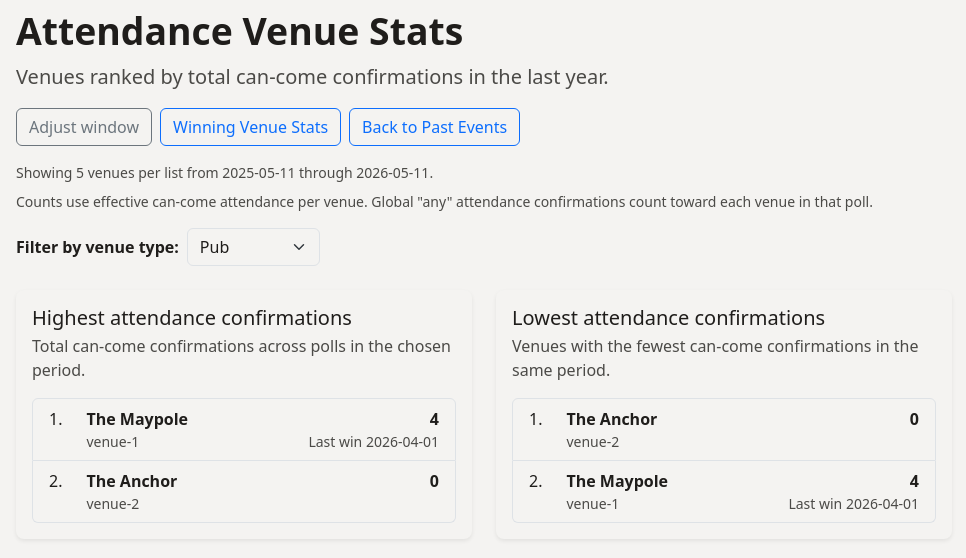
it: AttendanceVenueStatsPage › shows only restaurant venues when restaurant filter is selected
The width and height of the screenshot is (966, 558).
Select "Restaurant" in the dropdown labelled "Filter by venue type:" at (253, 247), box top-left (187, 228), bottom-right (320, 266)
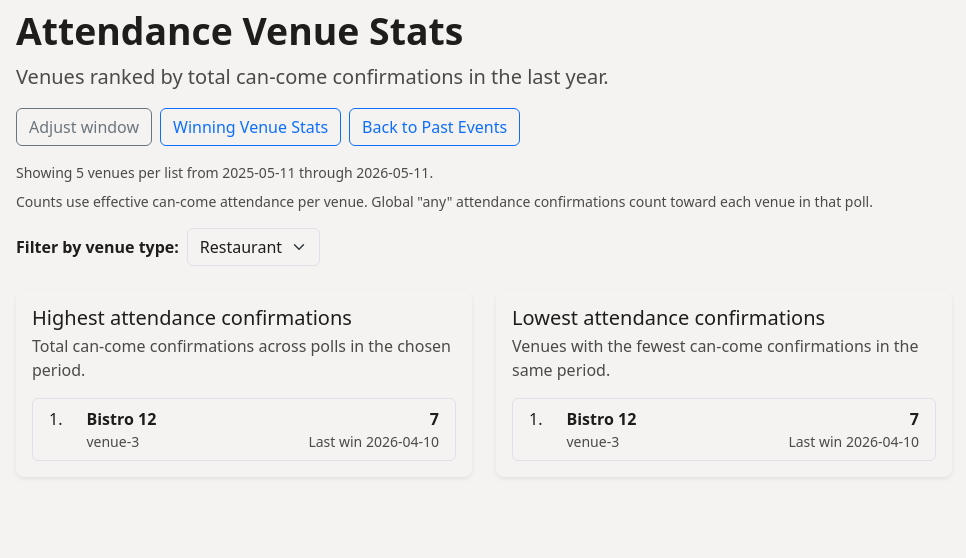
Now the text "Bistro 12" below "Highest attendance confirmations" is shown, box top-left (86, 408), bottom-right (156, 430)
Now the text "The Maypole" is gone
